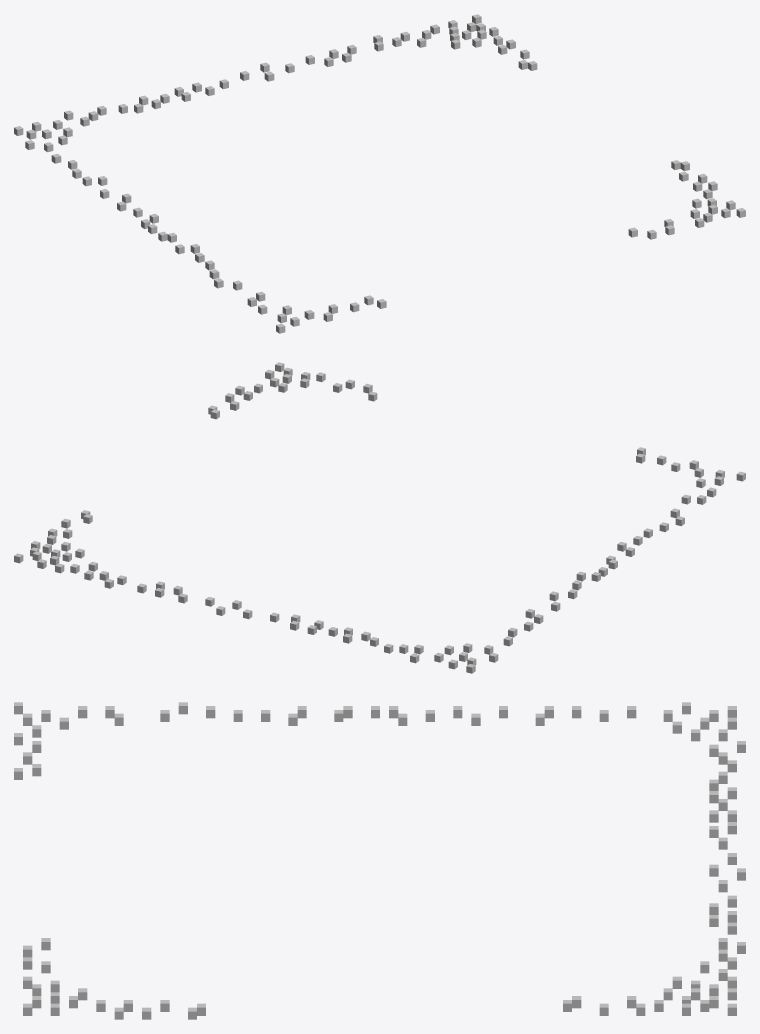
The model's file is river_snow_4_overtile.glb.
The picture shows the model from 3 angles, top to bottom: view 1: azimuth 30°, elevation 25°; view 2: azimuth 150°, elevation 25°; view 3: azimuth 270°, elevation 25°; orthographic projection. The views are drawn at different scales.
Visible parts, largest first — view 1: river_snow_4_overtile; view 2: river_snow_4_overtile; view 3: river_snow_4_overtile.
Boxes of the visible parts, x1,y1,x2,y2 form: river_snow_4_overtile: (14,14,745,333); river_snow_4_overtile: (14,362,745,673); river_snow_4_overtile: (14,702,745,1019).
Bounding box in the file's own units: 8 × 0.1 × 8.
Materials: 1 (1 with a texture image).
